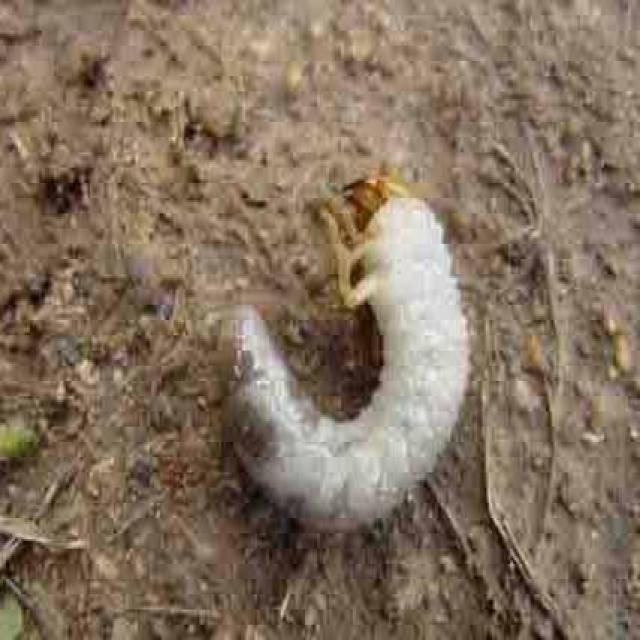Grub-Adult-: (213, 160, 478, 552)
